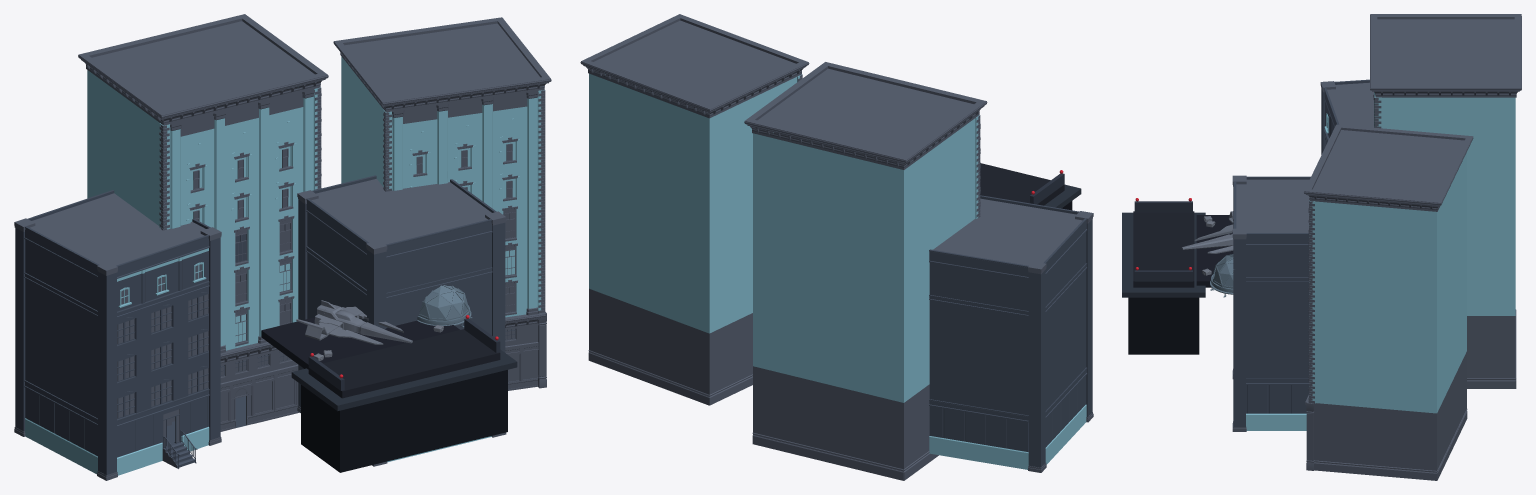
File: neotokyo_helipad.glb
3 renders of one model, left to right at view 1: azimuth 30°, elevation 25°; view 2: azimuth 150°, elevation 25°; view 3: azimuth 270°, elevation 25°, orthographic. The views are drawn at different scales.
Parts seen in each view (by area): view 1: mesh 1, mesh 0; view 2: mesh 1, mesh 0; view 3: mesh 1, mesh 0.
Boxes of the visible parts, bbox=[...] form: mesh 1: bbox=[14, 14, 551, 480]; mesh 0: bbox=[308, 329, 500, 398]; mesh 1: bbox=[580, 14, 1093, 480]; mesh 0: bbox=[980, 163, 1064, 205]; mesh 1: bbox=[1122, 14, 1521, 480]; mesh 0: bbox=[1133, 211, 1194, 287].
Bounding box in the file's own units: 39.91 × 26.46 × 31.59.
